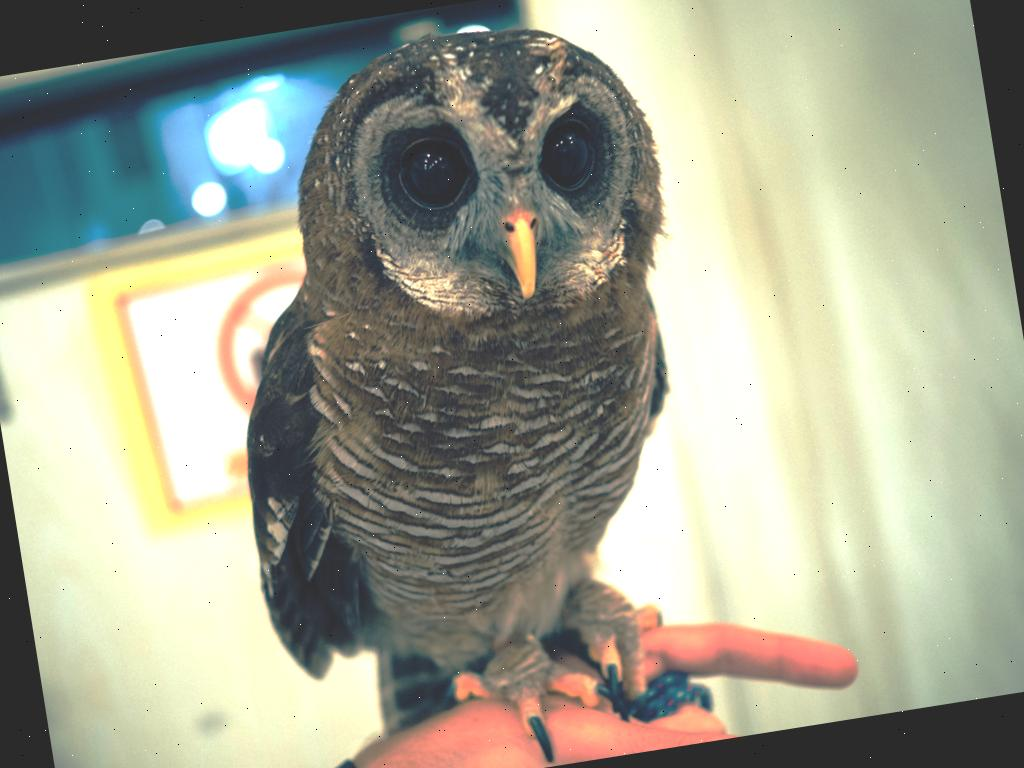Owl: (180, 0, 750, 768)
